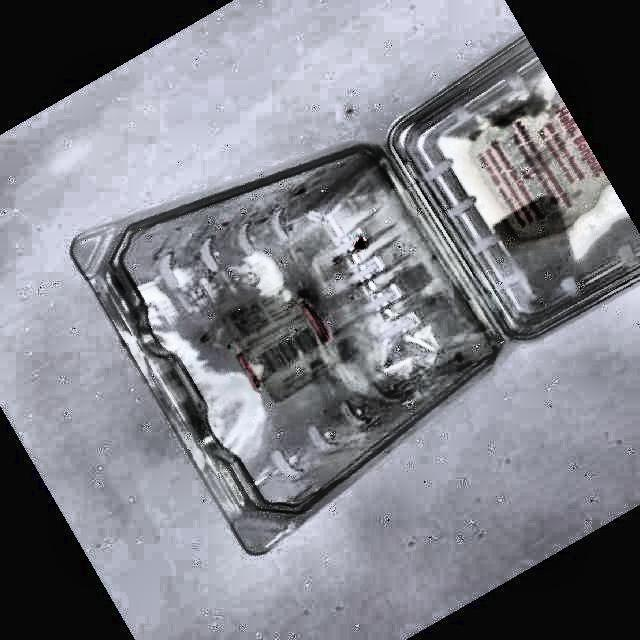plastic: (71, 38, 640, 553)
